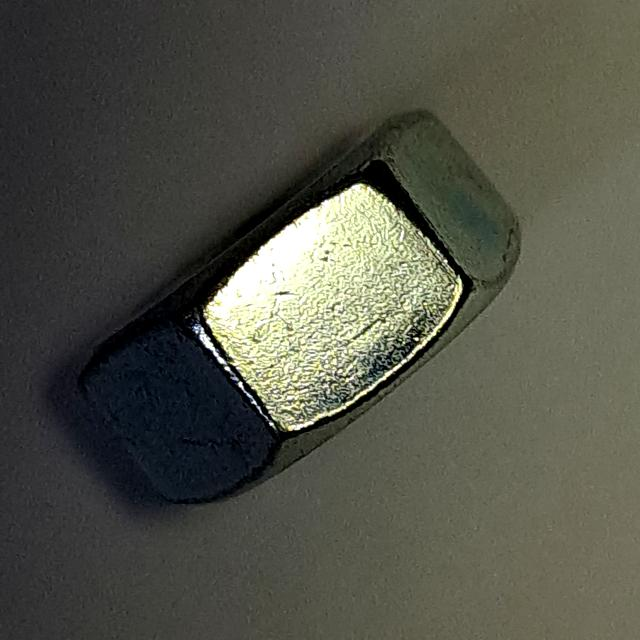Side_Excellent: (66, 100, 538, 516)
